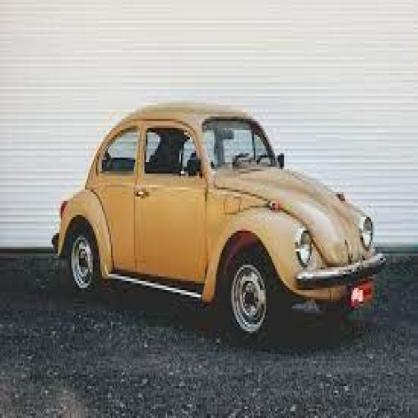car: (55, 99, 387, 336)
